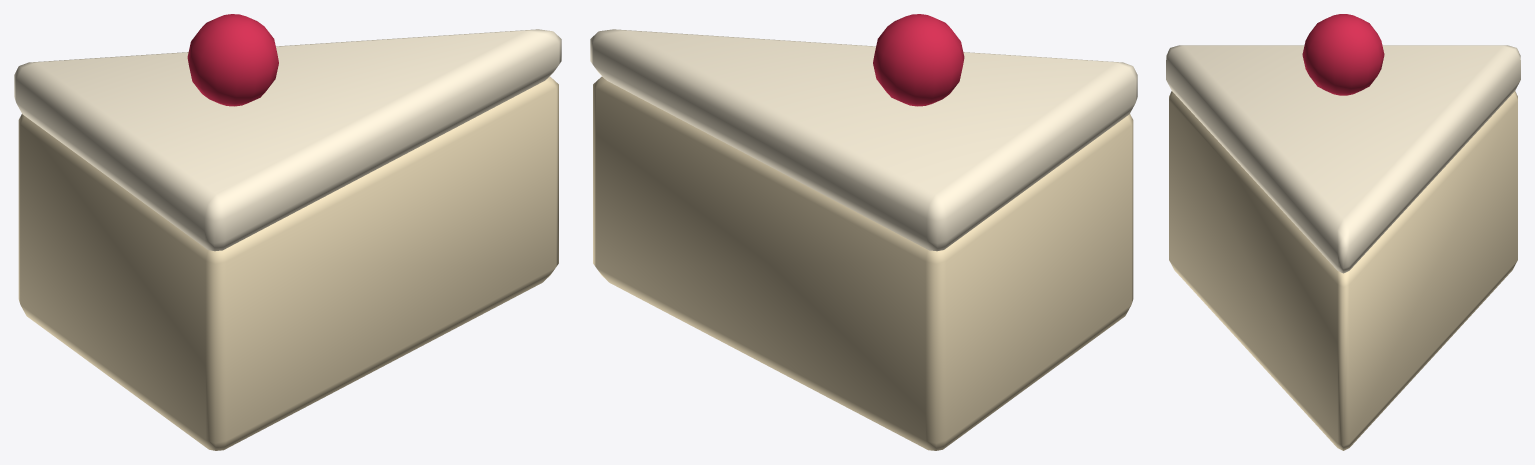
Rendered from cake_slice.glb.
3 views of the same model, side by side, from view 1: azimuth 30°, elevation 25°; view 2: azimuth 150°, elevation 25°; view 3: azimuth 270°, elevation 25° (orthographic). The views are drawn at different scales.
Visible parts, largest first — view 1: cake_slice; view 2: cake_slice; view 3: cake_slice.
Part boxes in pixels (left/top/right/bottom): cake_slice: left=14, top=14, right=561, bottom=450; cake_slice: left=590, top=14, right=1137, bottom=450; cake_slice: left=1166, top=14, right=1520, bottom=450.
Bounding box in the file's own units: 1 × 0.7231 × 0.7684.
